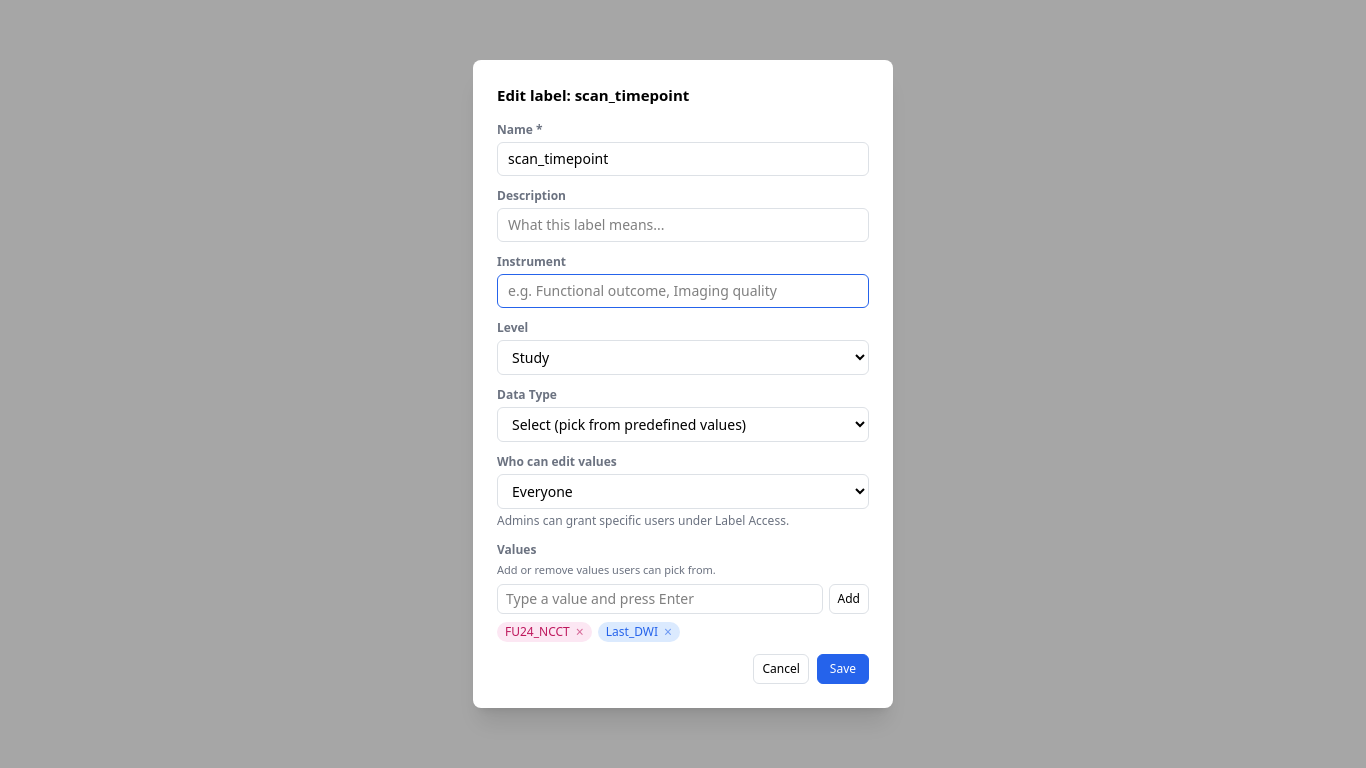
Test: LabelDefModal › removing an in-use value asks for confirmation first
Expected: the text "FU24_NCCT" is shown, 505,623 -> 570,640
Click the button "×" next to "FU24_NCCT" at coordinates (580, 632), box 576,625 -> 584,639
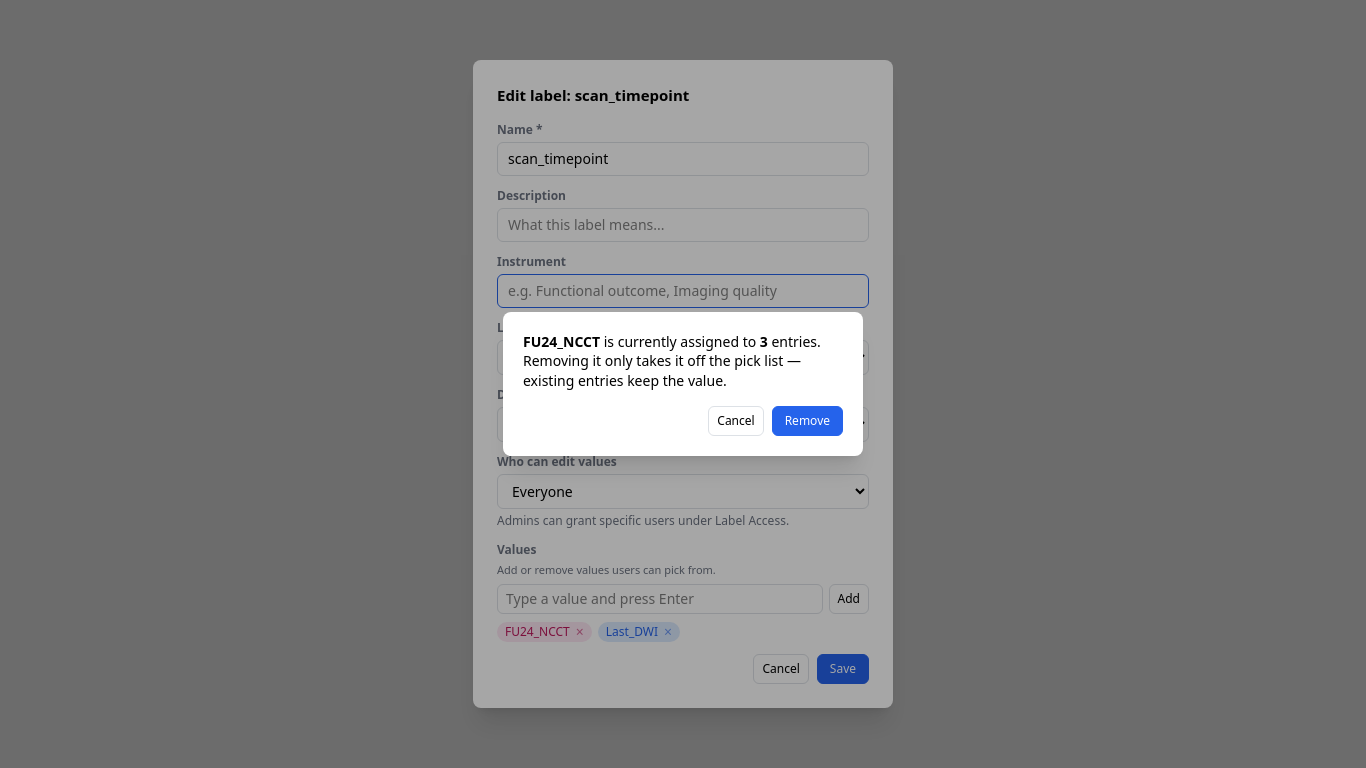
Expected: the text "currently assigned to" is shown, 600,332 -> 756,351
Click the button "Remove" at coordinates (807, 421), box 772,406 -> 843,436
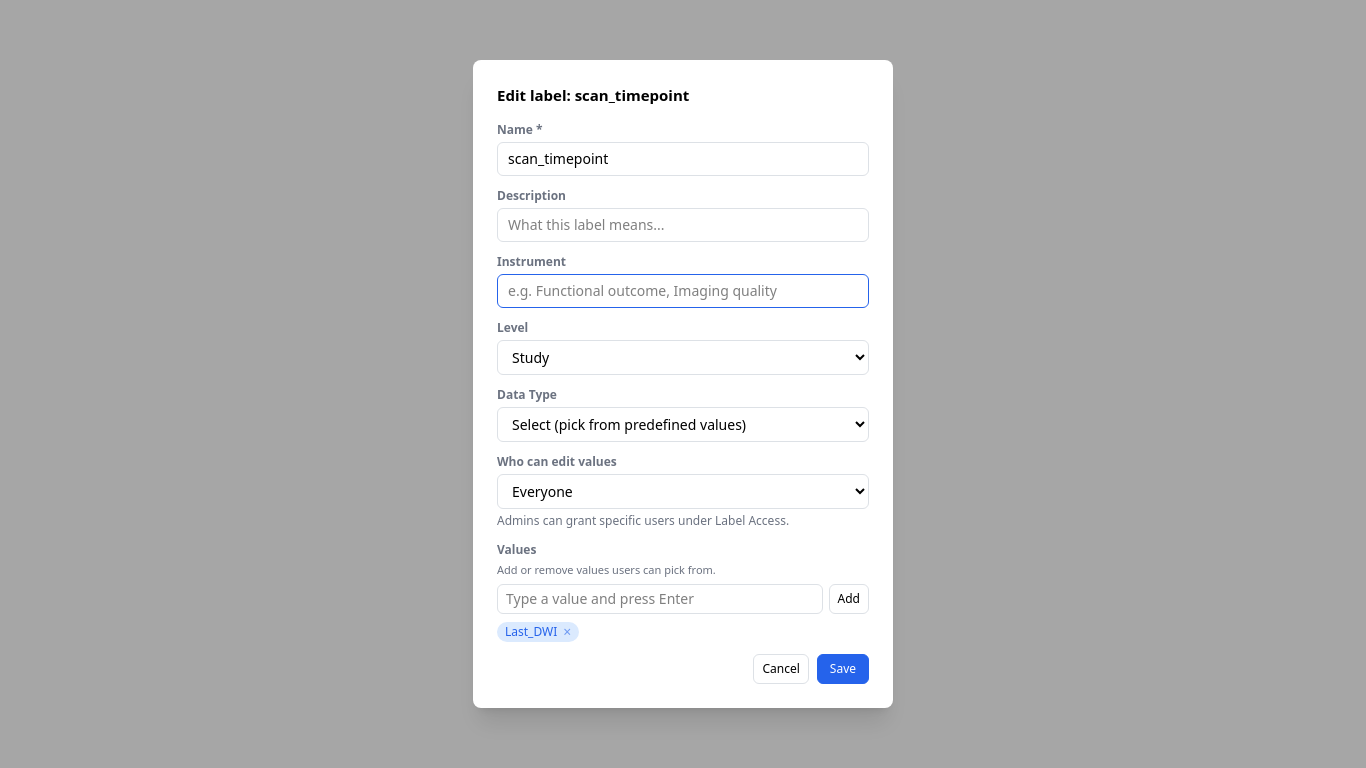
Expected: the text "currently assigned to" is gone
Expected: the text "FU24_NCCT" is gone
